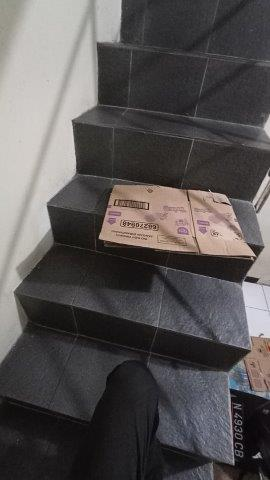kardus: (100, 186, 253, 259), (230, 337, 270, 397)
